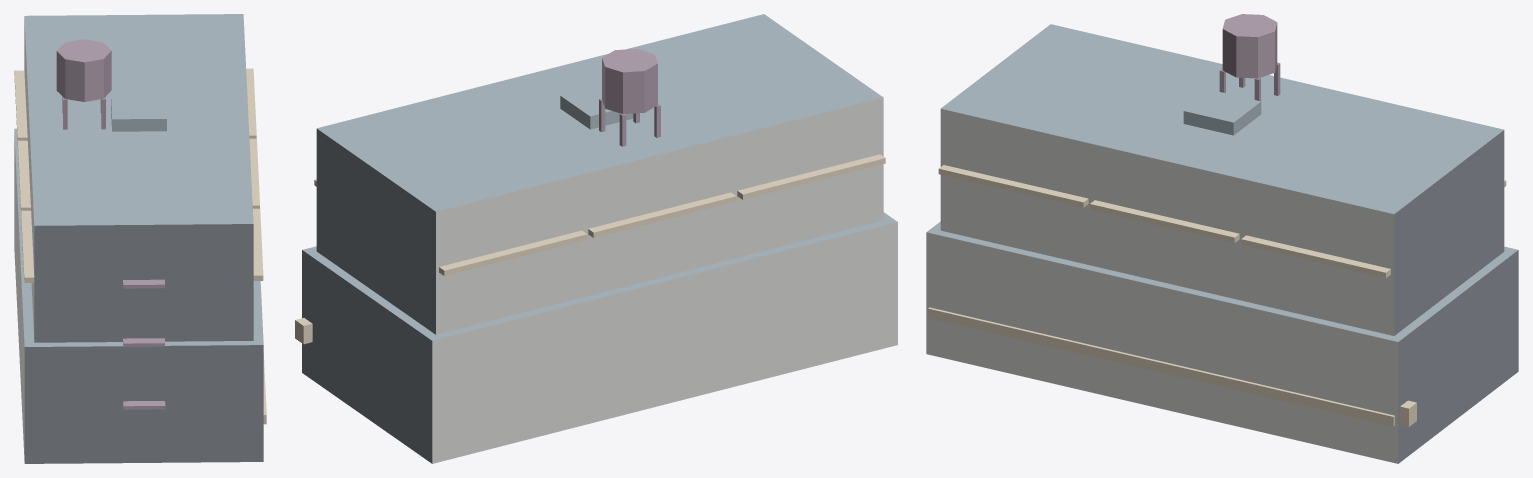
The model's file is doitt-102705__lod_1.glb.
3 views of the same model, side by side, from view 1: azimuth 30°, elevation 25°; view 2: azimuth 150°, elevation 25°; view 3: azimuth 270°, elevation 25° (orthographic). The views are drawn at different scales.
Bounding box in the file's own units: 26.4 × 19.18 × 32.56.
